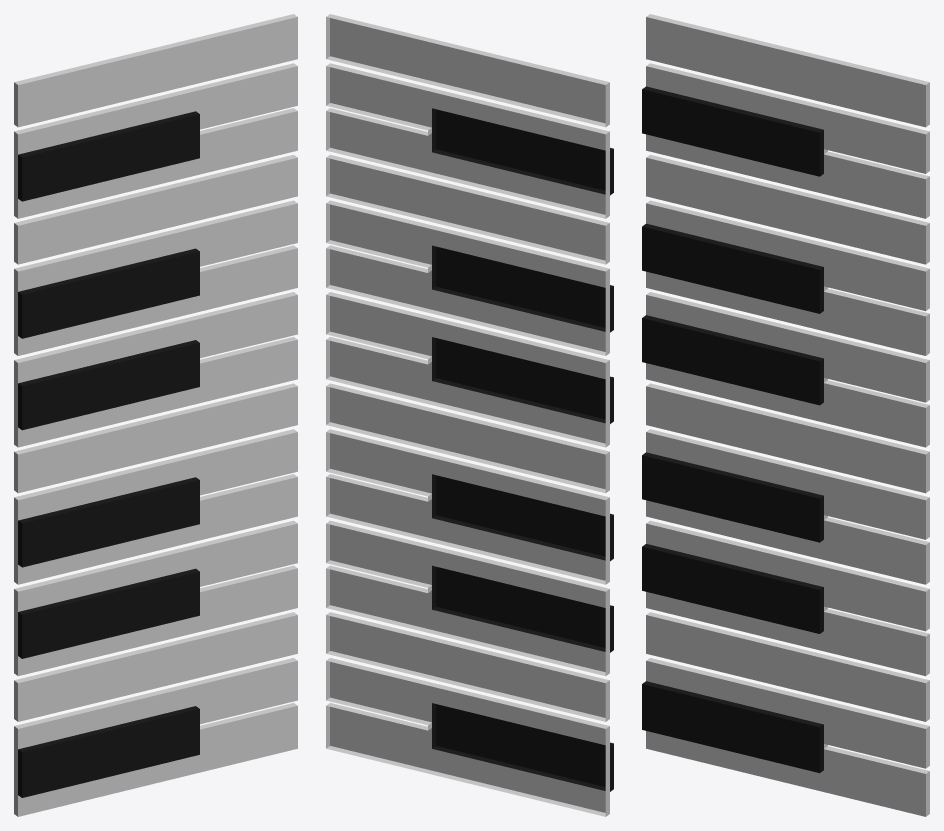
File: Int_MusicRoomDecoration01_2.fbx
3 views of the same model, side by side, from view 1: azimuth 30°, elevation 25°; view 2: azimuth 150°, elevation 25°; view 3: azimuth 330°, elevation 25° (orthographic).
Visible parts, largest first — view 1: Int_MusicRoomDecoration01_2; view 2: Int_MusicRoomDecoration01_2; view 3: Int_MusicRoomDecoration01_2.
Boxes of the visible parts, x1,y1,x2,y2 form: Int_MusicRoomDecoration01_2: (14, 14, 297, 816); Int_MusicRoomDecoration01_2: (326, 14, 613, 816); Int_MusicRoomDecoration01_2: (642, 14, 929, 816).
Size of what is drawn, in the model's own units: 100 by 5 by 250.
